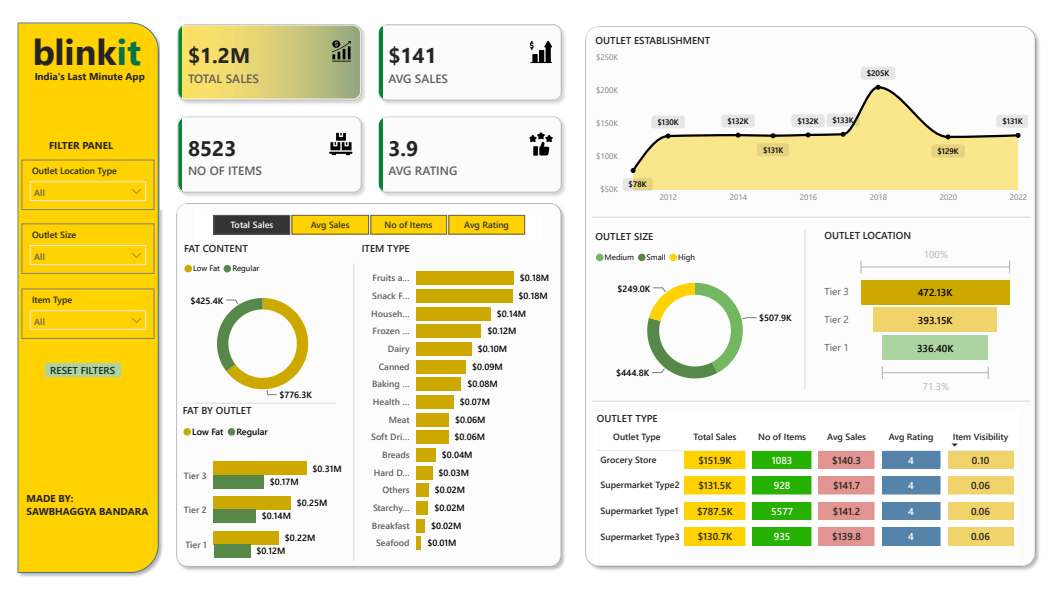

Layout of this report page (visuals, bound fields, positions):
{"tool":"powerbi","page":{"name":"Page 1","canvas":[1400,800],"ordinal":0},"visuals":[{"type":"shape","box":[10.5,25.5,204.1,750.4],"z":0},{"type":"textbox","box":[23.3,33.3,173.3,78.3],"z":1000},{"type":"textbox","box":[31.7,91.7,165,30],"z":2000},{"type":"cardVisual","fields":{"Data":["BlinkIT Grocery Data.Total Sales","BlinkIT Grocery Data.Avg Sales","BlinkIT Grocery Data.No of Items","BlinkIT Grocery Data.Avg Rating"]},"box":[208.3,13.3,558.3,270],"z":3000},{"type":"shape","box":[221.7,266.7,528.3,500],"z":4000},{"type":"slicer","fields":{"Values":["Metrics.Metrics"]},"box":[253.3,283.3,465,40],"z":5000},{"type":"donutChart","title":"FAT CONTENT","fields":{"Y":["BlinkIT Grocery Data.Total Sales"],"Category":["BlinkIT Grocery Data.Item Fat Content"]},"box":[235.6,324.2,219.1,229.6],"z":6000},{"type":"clusteredBarChart","title":"FAT BY OUTLET","fields":{"Y":["BlinkIT Grocery Data.Total Sales"],"Category":["BlinkIT Grocery Data.Outlet Location Type"],"Series":["BlinkIT Grocery Data.Item Fat Content"]},"box":[233.3,541.7,221.7,230],"z":7000},{"type":"shape","box":[253.6,534.3,189.1,12],"z":8000},{"type":"shape","box":[459.3,354.2,12,396.2],"z":9000},{"type":"barChart","title":"ITEM TYPE","fields":{"Y":["BlinkIT Grocery Data.Total Sales"],"Category":["BlinkIT Grocery Data.Item Type"]},"box":[471.3,324.2,259.6,426.2],"z":10000},{"type":"shape","box":[766.7,30,616.7,736.7],"z":11000},{"type":"lineChart","title":"OUTLET ESTABLISHMENT","fields":{"Y":["BlinkIT Grocery Data.Total Sales"],"Category":["BlinkIT Grocery Data.Outlet Establishment Year"]},"box":[783.3,48.3,585,235],"z":12000},{"type":"shape","box":[783.3,283.3,585,20],"z":13000},{"type":"donutChart","title":"OUTLET SIZE","fields":{"Y":["BlinkIT Grocery Data.Total Sales"],"Category":["BlinkIT Grocery Data.Outlet Size"]},"box":[783.3,309.8,275,225],"z":14000},{"type":"shape","box":[1060,309.8,15,213.3],"z":15000},{"type":"funnel","title":"OUTLET LOCATION","fields":{"Y":["Sum(BlinkIT Grocery Data.Sales)"],"Category":["BlinkIT Grocery Data.Outlet Location Type"]},"box":[1088.3,308.1,261.7,225],"z":16000},{"type":"shape","box":[783.3,528.3,585,20],"z":17000},{"type":"pivotTable","title":"OUTLET TYPE","fields":{"Values":["BlinkIT Grocery Data.Total Sales","BlinkIT Grocery Data.No of Items","BlinkIT Grocery Data.Avg Sales","BlinkIT Grocery Data.Avg Rating","Avg(BlinkIT Grocery Data.Item Visibility)"],"Rows":["BlinkIT Grocery Data.Outlet Type"]},"box":[785,551.7,566.7,201.7],"z":18000},{"type":"slicer","fields":{"Values":["BlinkIT Grocery Data.Outlet Location Type"]},"box":[23.3,216.7,176.7,66.7],"z":18001},{"type":"slicer","fields":{"Values":["BlinkIT Grocery Data.Outlet Size"]},"box":[23.3,301.7,176.7,66.7],"z":18002},{"type":"slicer","fields":{"Values":["BlinkIT Grocery Data.Item Type"]},"box":[23.3,388.3,176.7,66.7],"z":18003},{"type":"textbox","box":[55,183.3,121.7,33.3],"z":18004},{"type":"actionButton","title":"RESET FILTERS","box":[55,488.3,100,16.7],"z":18005},{"type":"textbox","box":[25,653.3,183.3,48.3],"z":18006}]}

Visuals, with their boxes in screenshot pixels (x1, y1, x2, y2), scaled from the page's 1400x800 canvas onto the 1056x592 screenshot:
shape: box(8, 19, 162, 574)
textbox: box(18, 25, 148, 83)
textbox: box(24, 68, 148, 90)
cardVisual - BlinkIT Grocery Data.Total Sales x BlinkIT Grocery Data.Avg Sales: box(157, 10, 578, 210)
shape: box(167, 197, 566, 567)
slicer - Metrics.Metrics: box(191, 210, 542, 239)
"FAT CONTENT" donutChart: box(178, 240, 343, 410)
"FAT BY OUTLET" clusteredBarChart: box(176, 401, 343, 571)
shape: box(191, 395, 334, 404)
shape: box(346, 262, 355, 555)
"ITEM TYPE" barChart: box(355, 240, 551, 555)
shape: box(578, 22, 1043, 567)
"OUTLET ESTABLISHMENT" lineChart: box(591, 36, 1032, 210)
shape: box(591, 210, 1032, 224)
"OUTLET SIZE" donutChart: box(591, 229, 798, 396)
shape: box(800, 229, 811, 387)
"OUTLET LOCATION" funnel: box(821, 228, 1018, 394)
shape: box(591, 391, 1032, 406)
"OUTLET TYPE" pivotTable: box(592, 408, 1020, 558)
slicer - BlinkIT Grocery Data.Outlet Location Type: box(18, 160, 151, 210)
slicer - BlinkIT Grocery Data.Outlet Size: box(18, 223, 151, 273)
slicer - BlinkIT Grocery Data.Item Type: box(18, 287, 151, 337)
textbox: box(41, 136, 133, 160)
"RESET FILTERS" actionButton: box(41, 361, 117, 374)
textbox: box(19, 483, 157, 519)
